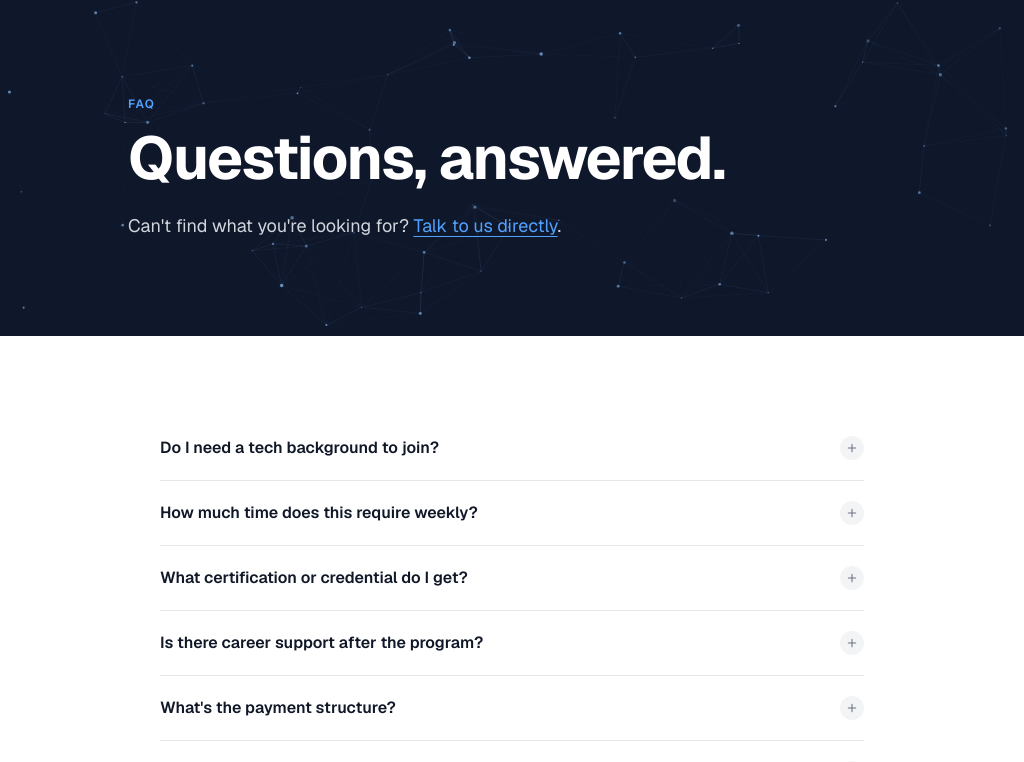
Scenario: FAQ page › opens an accordion item on click and closes it on second click
Click the button "Do I need a tech background to join?". click: (299,448)
box: [160,436,864,460]
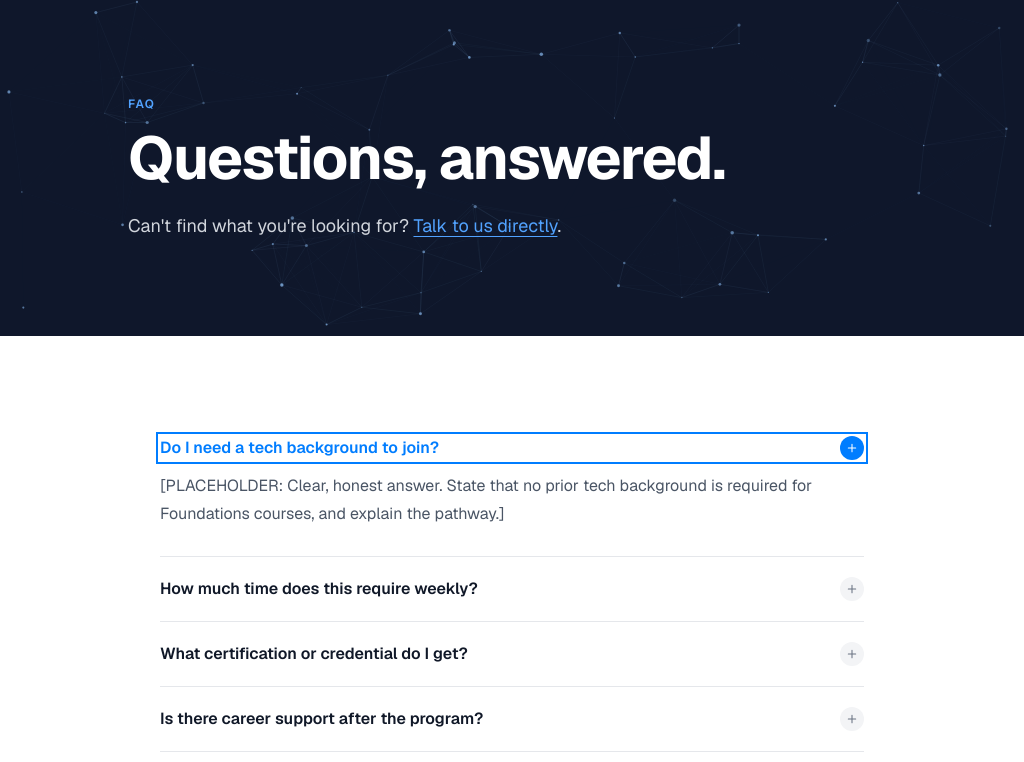
Now the button "Do I need a tech background to join?" is expanded
Click the button "Do I need a tech background to join?". click: (299,448)
box: [160,436,864,460]
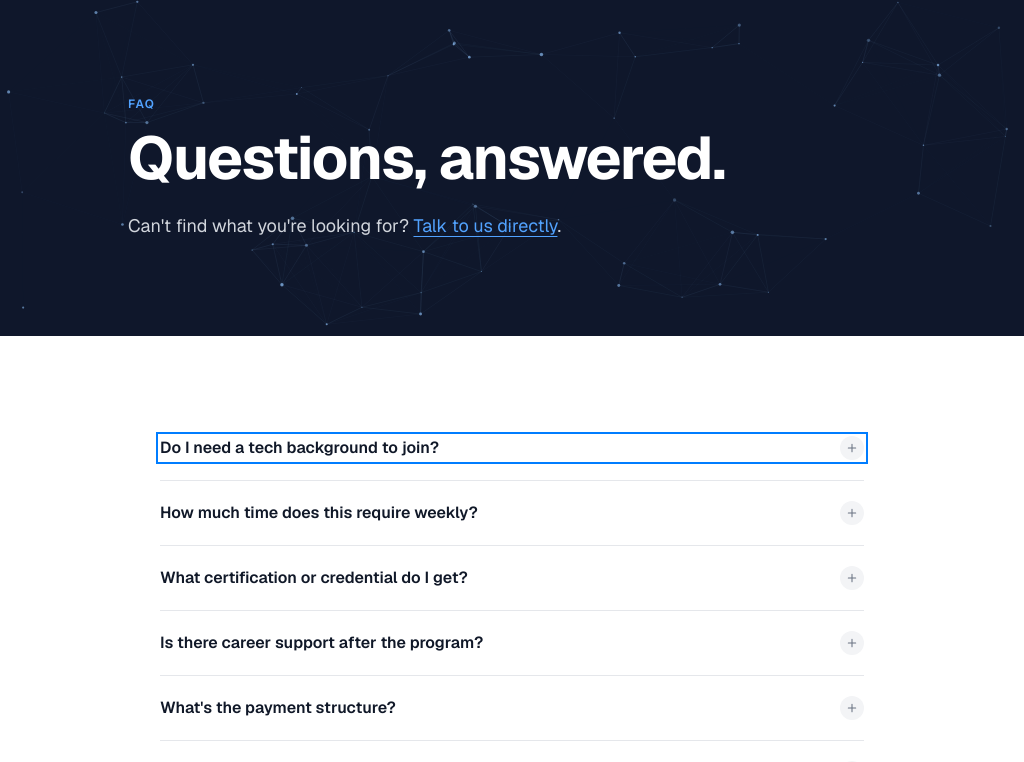
Now the button "Do I need a tech background to join?" is collapsed, box [160,436,864,460]
